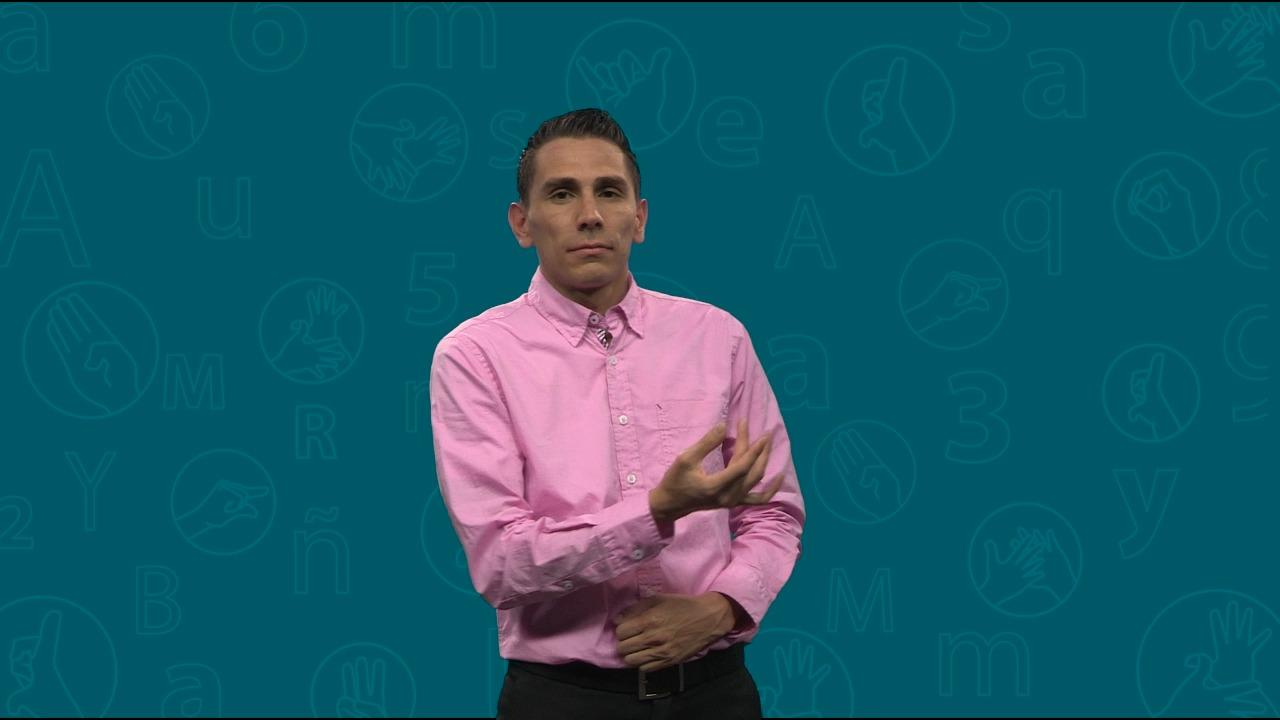Dolor: (390, 86, 1004, 658)
